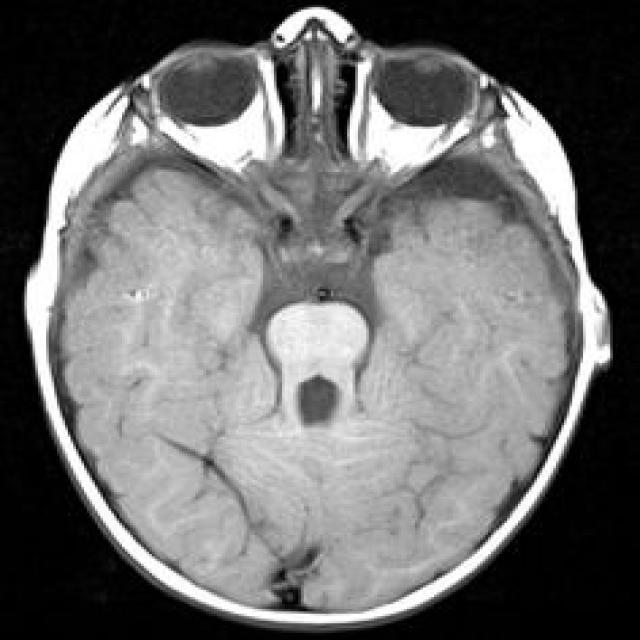No_Tumor: (26, 7, 610, 629)
